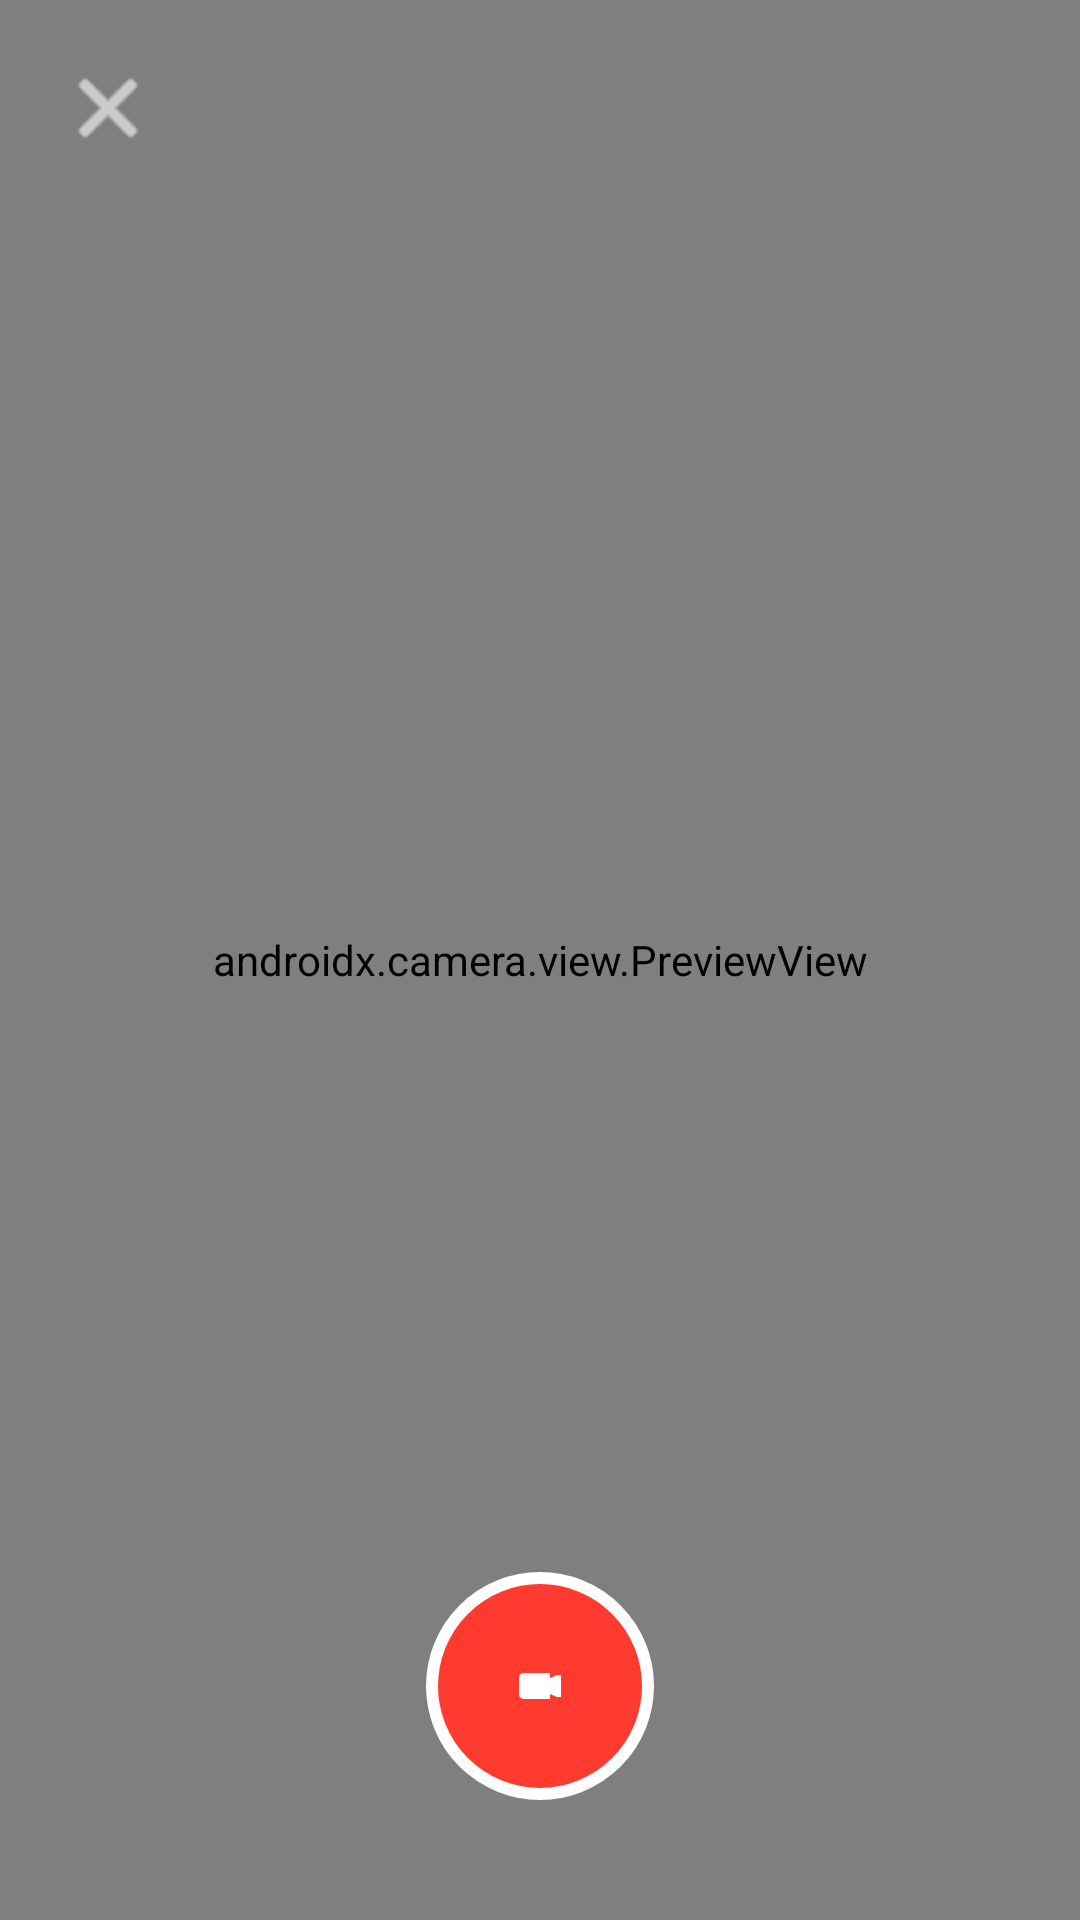

Icon click points for this 1080px×1920px phone screenshot, format point (x, y):
Close: point (108, 108)
Record: point (540, 1686)
